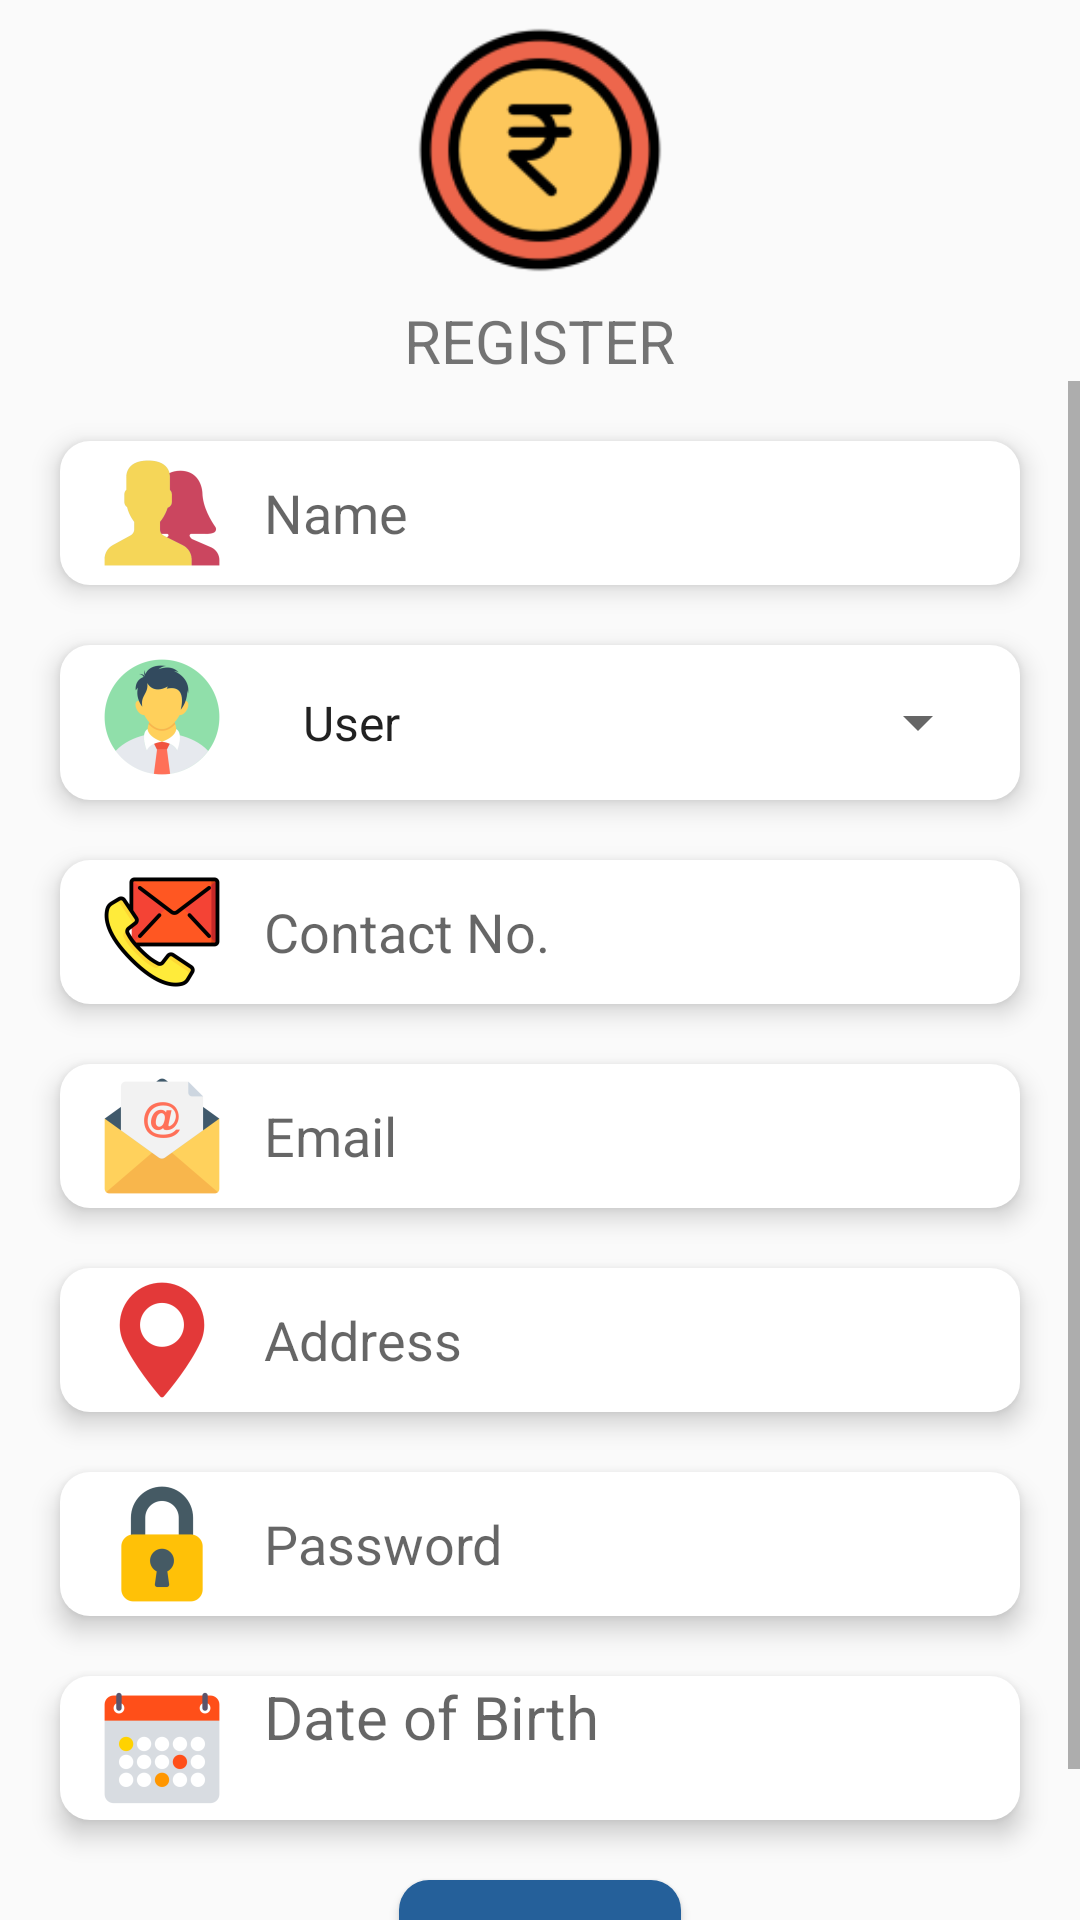

Icons on this 1080px×1920px Android screen, each with the point to tap as point (x, y):
rupee: point (540, 150)
